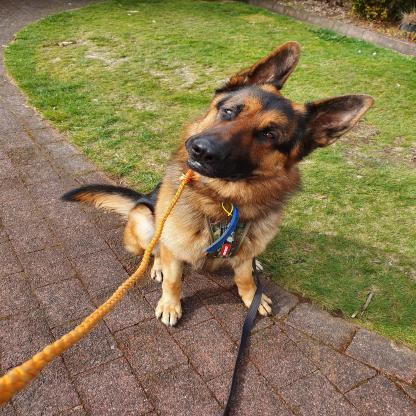german shepherd: (63, 44, 372, 334)
